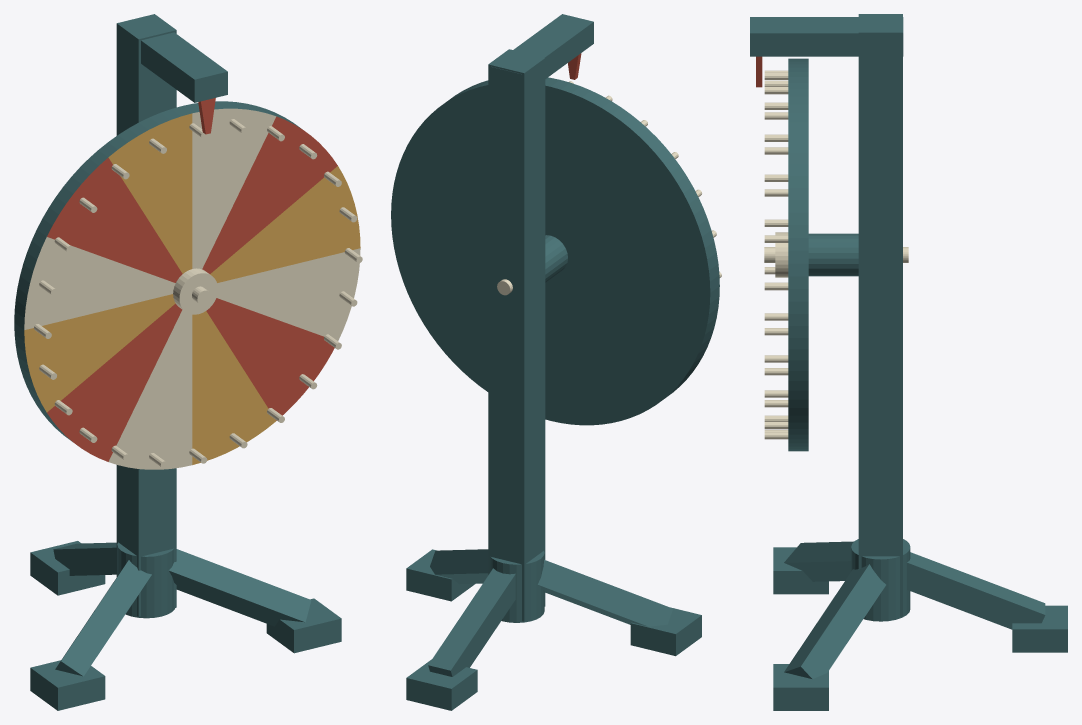
3 renders of one model, left to right at view 1: azimuth 30°, elevation 25°; view 2: azimuth 150°, elevation 25°; view 3: azimuth 270°, elevation 25°, orthographic. The views are drawn at different scales.
Parts seen in each view (by area): view 1: WholeAnnularFlatPrizeWheel, WholeTallRearAxleColumn, WholeSplayedBaseArm_2, WholeTopIndicatorCantilever, WholeSplayedBaseArm_1, WholeGroundFootShoe_1, WholeThreeArmRootCollar, WholeGroundFootShoe_2, WholeGroundFootShoe_0, WholeSplayedBaseArm_0, WholeFrontRetainingCap; view 2: WholeAnnularFlatPrizeWheel, WholeTallRearAxleColumn, WholeSplayedBaseArm_0, WholeSplayedBaseArm_1, WholeTopIndicatorCantilever, WholeGroundFootShoe_0, WholeGroundFootShoe_1, WholeThreeArmRootCollar, WholeSplayedBaseArm_2, WholeGroundFootShoe_2, WholeRearRetainingCollar; view 3: WholeTallRearAxleColumn, WholeAnnularFlatPrizeWheel, WholeSplayedBaseArm_0, WholeSplayedBaseArm_2, WholeTopIndicatorCantilever, WholeThreeArmRootCollar, WholeRearRetainingCollar, WholeSplayedBaseArm_1, WholeGroundFootShoe_2, WholeGroundFootShoe_0, WholeGroundFootShoe_1, WholeFrontRetainingCap.
Part boxes in pixels (x1,y1,x2,y2): WholeAnnularFlatPrizeWheel: (14,101,360,469); WholeTallRearAxleColumn: (116,14,176,616); WholeSplayedBaseArm_2: (169,549,311,626); WholeTopIndicatorCantilever: (141,32,227,102); WholeSplayedBaseArm_1: (55,560,151,676); WholeGroundFootShoe_1: (30,660,105,710); WholeThreeArmRootCollar: (117,542,174,618); WholeGroundFootShoe_2: (266,598,341,653); WholeGroundFootShoe_0: (30,541,105,595); WholeSplayedBaseArm_0: (53,542,116,575); WholeFrontRetainingCap: (173,268,218,314); WholeAnnularFlatPrizeWheel: (391,77,719,425); WholeTallRearAxleColumn: (488,49,545,621); WholeSplayedBaseArm_0: (428,568,515,676); WholeSplayedBaseArm_1: (538,559,672,626); WholeTopIndicatorCantilever: (490,14,593,96); WholeGroundFootShoe_0: (406,659,477,710); WholeGroundFootShoe_1: (630,607,701,656); WholeThreeArmRootCollar: (490,551,544,622); WholeSplayedBaseArm_2: (430,549,488,584); WholeGroundFootShoe_2: (406,549,475,601); WholeRearRetainingCollar: (545,235,567,282); WholeTallRearAxleColumn: (858,14,902,616); WholeAnnularFlatPrizeWheel: (788,58,808,451); WholeSplayedBaseArm_0: (907,552,1045,629); WholeSplayedBaseArm_2: (784,564,885,679); WholeTopIndicatorCantilever: (750,17,903,56); WholeThreeArmRootCollar: (851,539,910,621); WholeRearRetainingCollar: (808,233,858,276); WholeSplayedBaseArm_1: (784,541,853,581); WholeGroundFootShoe_2: (773,664,828,710); WholeGroundFootShoe_0: (1012,605,1067,652); WholeGroundFootShoe_1: (773,547,828,594); WholeFrontRetainingCap: (775,232,788,277).
Bounding box in the file's own units: 1.06 × 1.84 × 0.858.
